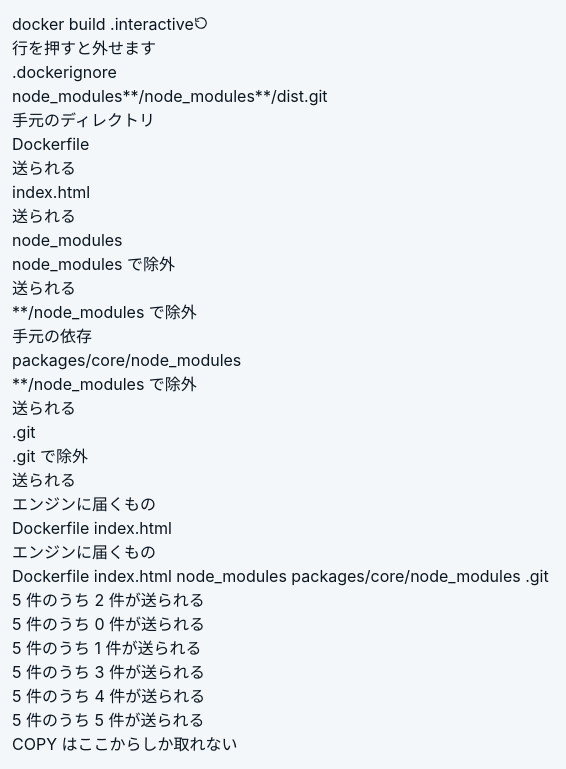
Scenario: BuildContext › switching both lines off puts the dependencies on the wire
Step 1. Click the button "node_modules" → (67, 96), box [12,84,122,108]
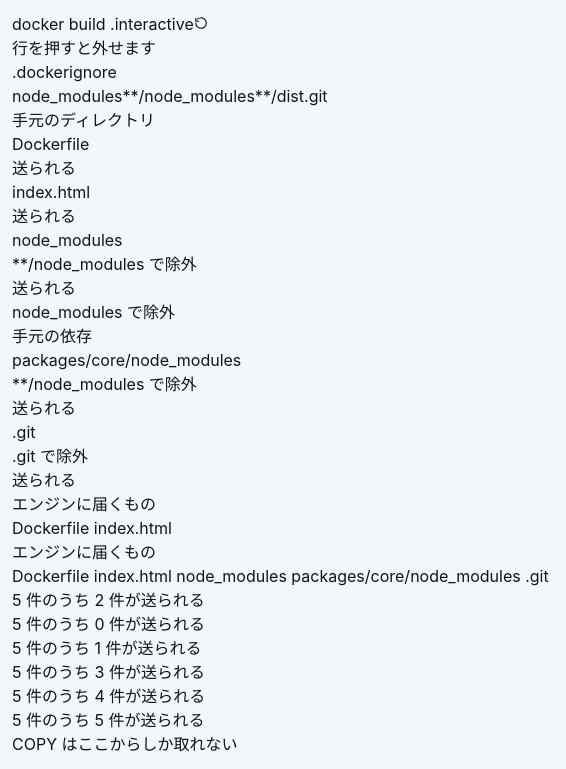
Step 2. Click the button "**/node_modules" → (189, 96), box [122,84,255,108]
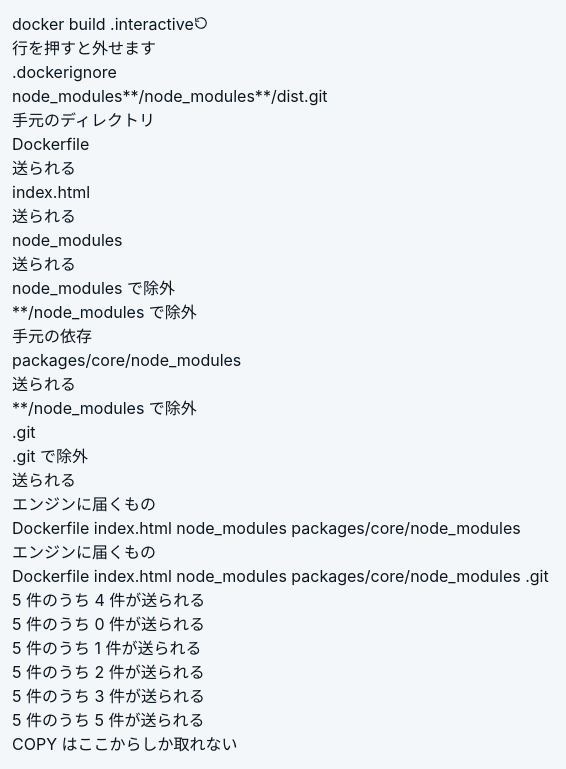
Check: the text "5 件のうち 4 件が送られる" is shown, box [12,590,205,610]
